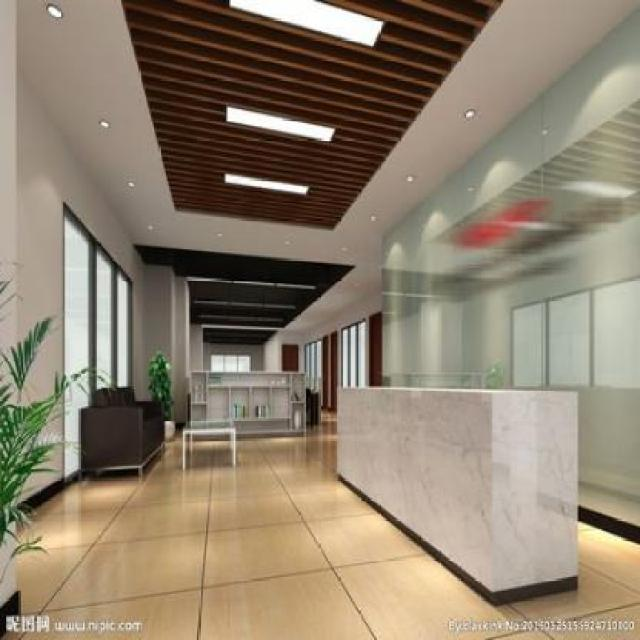frontdesk: (326, 365, 589, 610)
